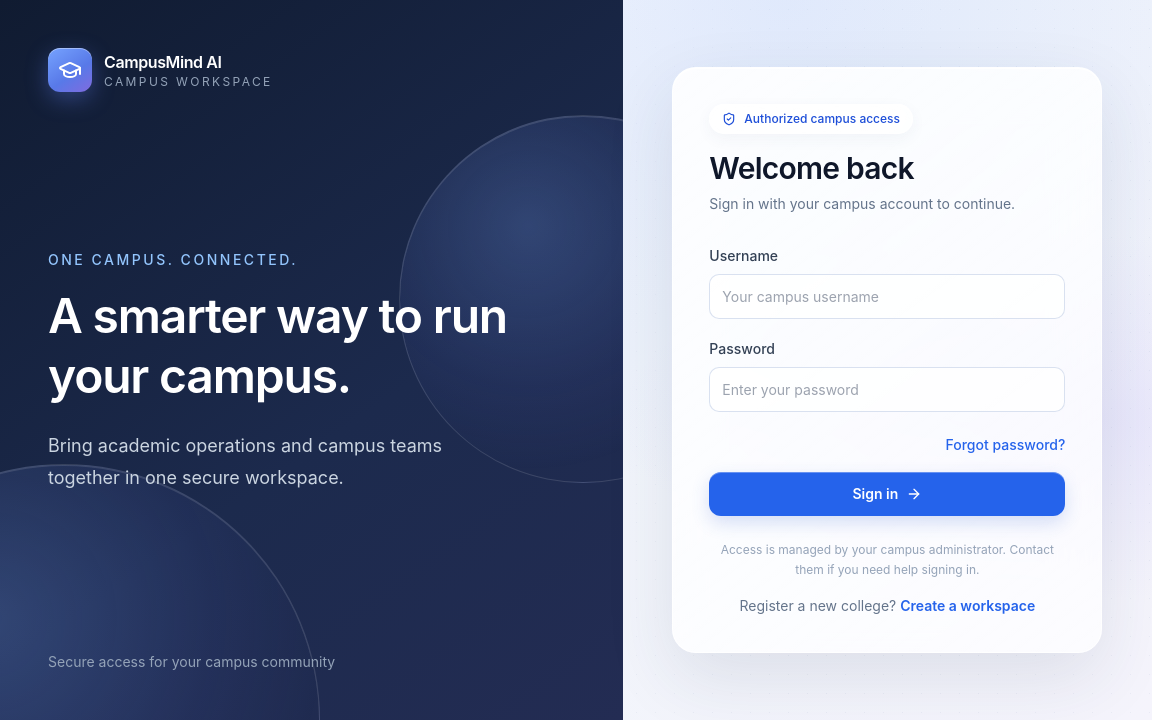
Test: Login › shows the server error when sign-in fails
The width and height of the screenshot is (1152, 720).
In the field labelled "Username": (887, 296) [709,274,1065,319], type "faculty1"
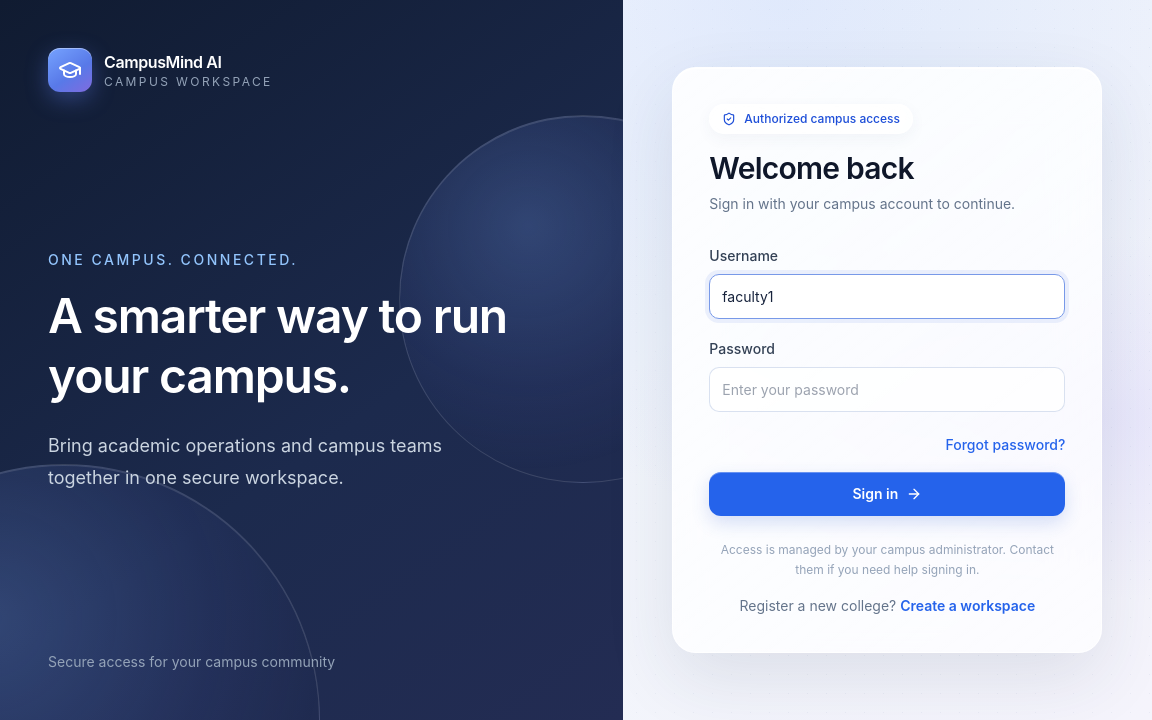
In the password field labelled "Password": (887, 390) [709,367,1065,412], type "wrong"
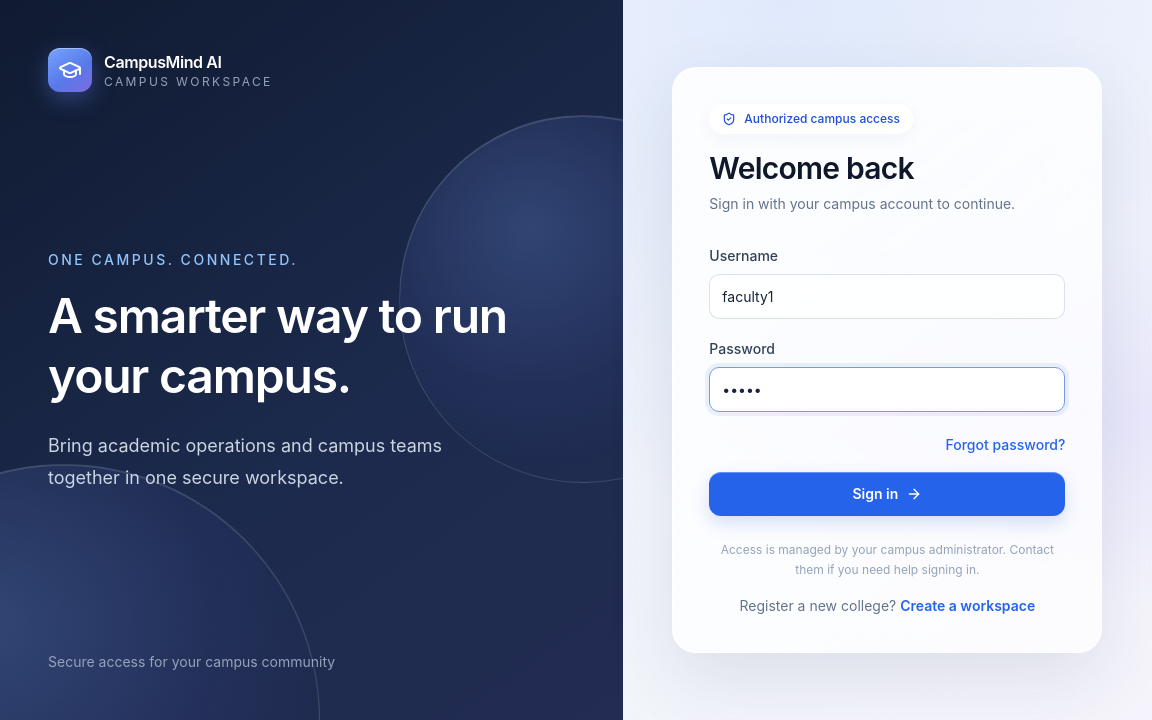
Click the button "Sign in": click(887, 494) [709,472,1065,516]
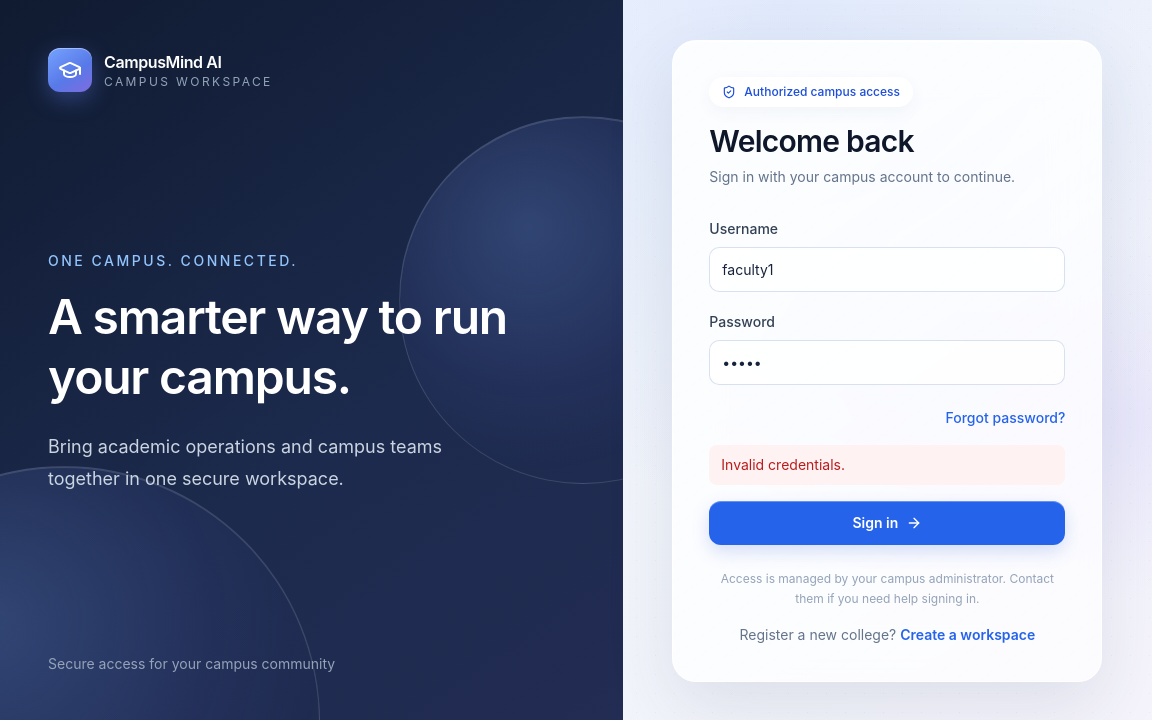
Expected: the message reads "Invalid credentials.", [721,456,845,473]
